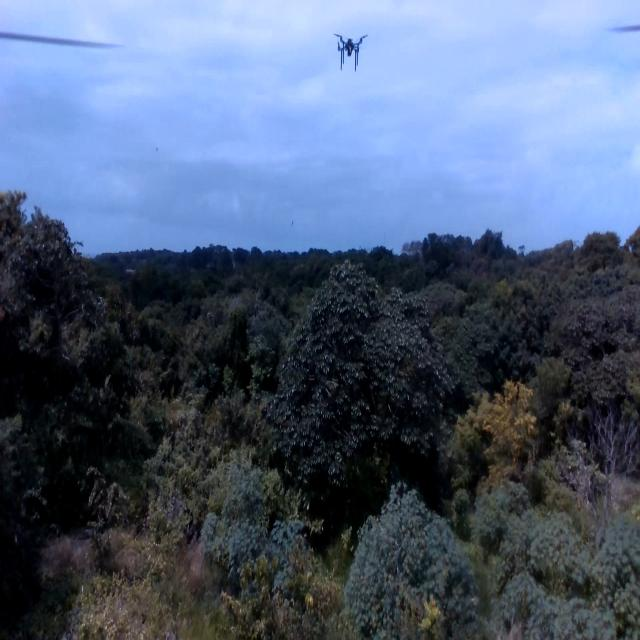-uav-: (328, 22, 373, 77)
